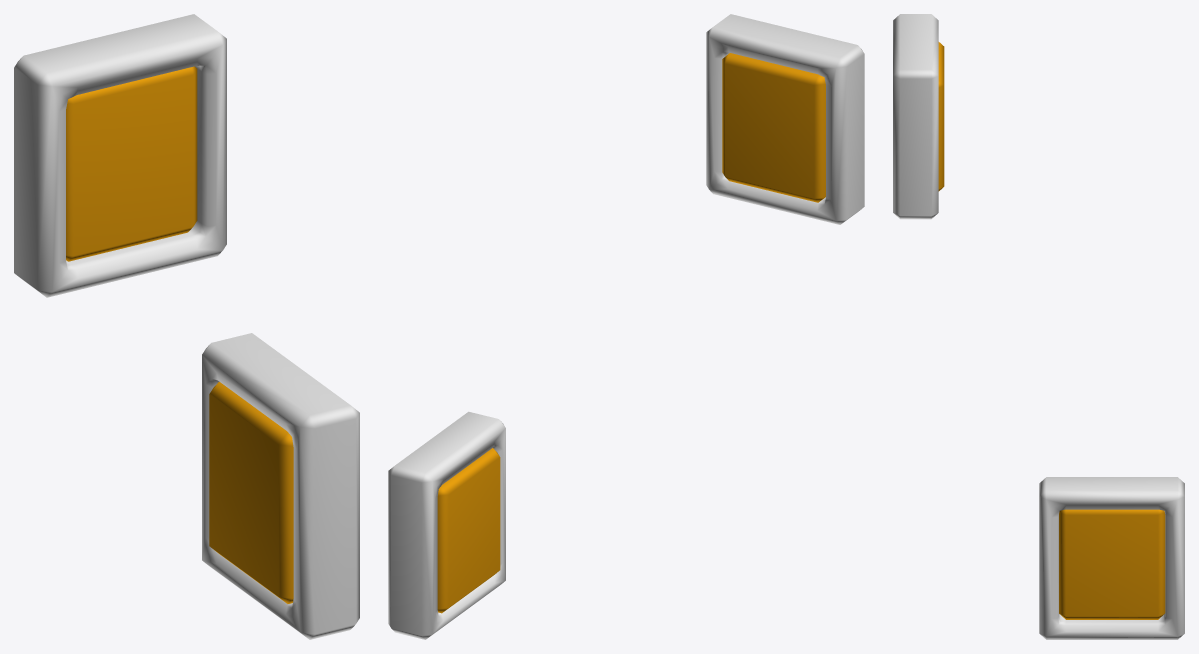
Rendered from SM_Clay_Window_06.fbx.
The picture shows the model from 3 angles, left to right: view 1: azimuth 30°, elevation 25°; view 2: azimuth 150°, elevation 25°; view 3: azimuth 270°, elevation 25°; orthographic projection. The views are drawn at different scales.
Visible parts, largest first — view 1: SM_Clay_Window_06; view 2: SM_Clay_Window_06; view 3: SM_Clay_Window_06.
Part boxes in pixels (x1=…): SM_Clay_Window_06: x1=14, y1=14, x2=359, y2=639; SM_Clay_Window_06: x1=388, y1=14, x2=864, y2=639; SM_Clay_Window_06: x1=893, y1=14, x2=1184, y2=639.
Bounding box in the file's own units: 0.6695 × 1.09 × 0.5882.
